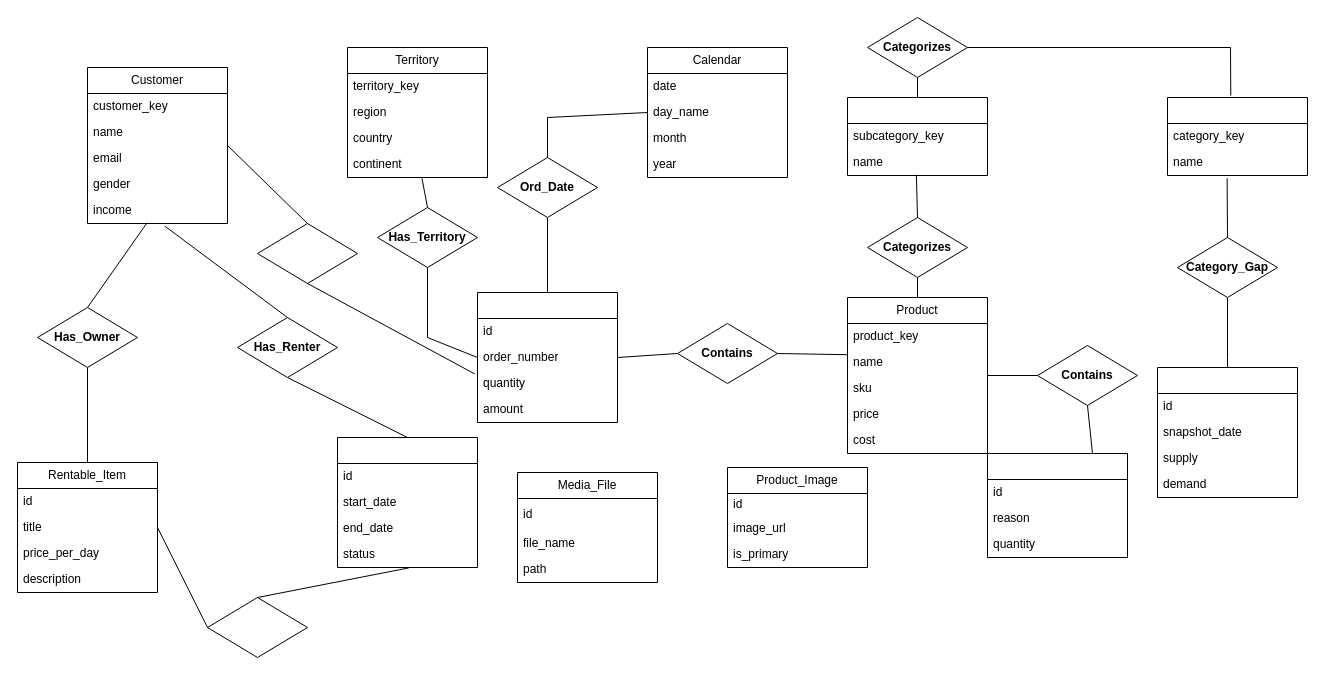
This 1325x675 diagram has some shape labels left out. The box of each missing label's shape, as (x1, y1, x2, y2) in pixels:
Gap_Snapshot: (1156, 366, 1298, 498)
Has_Item: (206, 596, 308, 658)
Makes: (256, 222, 358, 284)
Product_Category: (1166, 96, 1308, 176)
Product_Subcategory: (846, 96, 988, 176)
Rent_Request: (336, 436, 478, 568)
Returns_Transaction: (986, 452, 1128, 558)
Sales_Transaction: (476, 292, 618, 422)
